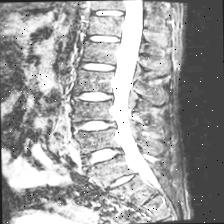disc: (77, 144, 130, 167), (67, 116, 122, 135), (102, 170, 140, 190), (91, 4, 125, 24), (87, 29, 119, 47)
hdisc: (72, 85, 114, 108), (78, 56, 117, 75)
